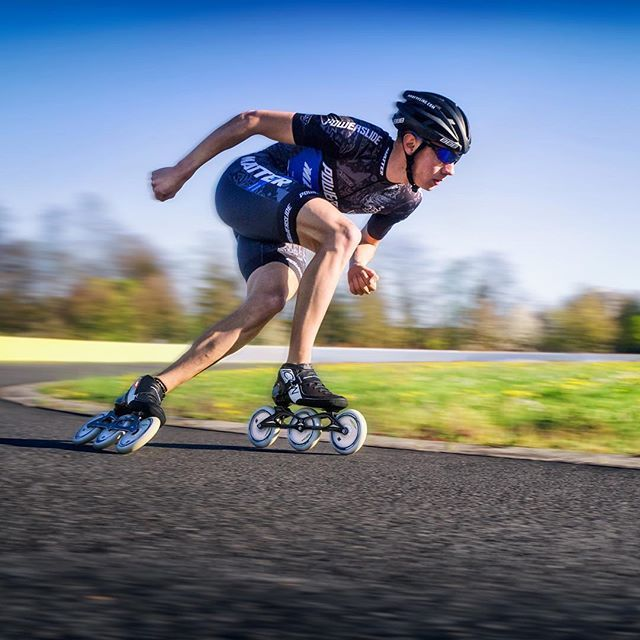roller_blade: (251, 363, 369, 456), (81, 371, 160, 450)
